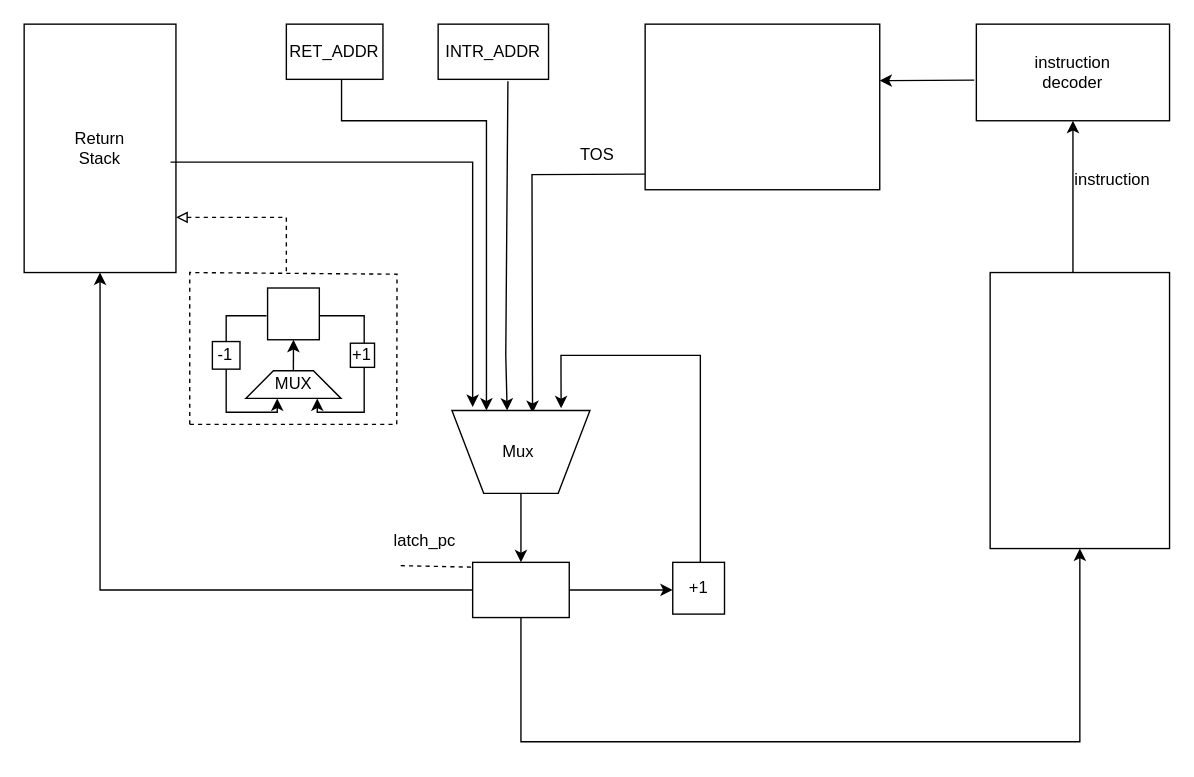
This 1194x777 diagram has some shape labels left out. The shapes that lost their labels are listed below. From the top down, each one's centre as x and y in pixels, then its label:
At (x=762, y=106): "Data path".
At (x=292, y=313): "SCP".
At (x=1079, y=410): "Program memory".
At (x=520, y=589): "PC".
